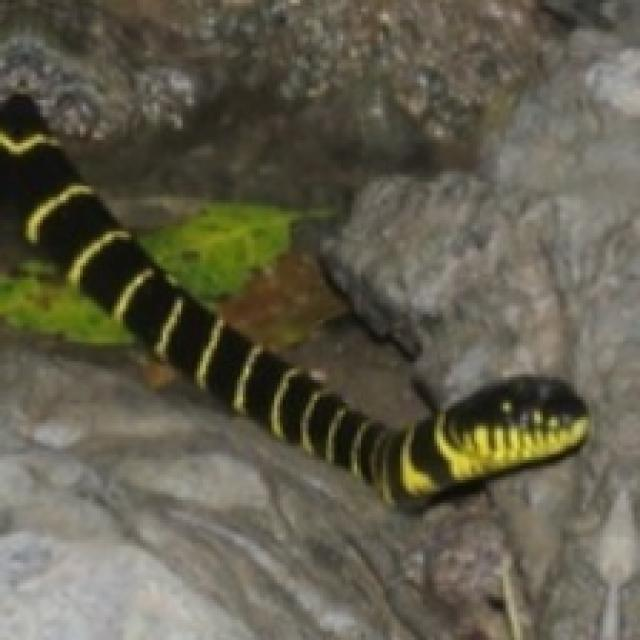mangrove cat snake: (0, 94, 589, 506)
